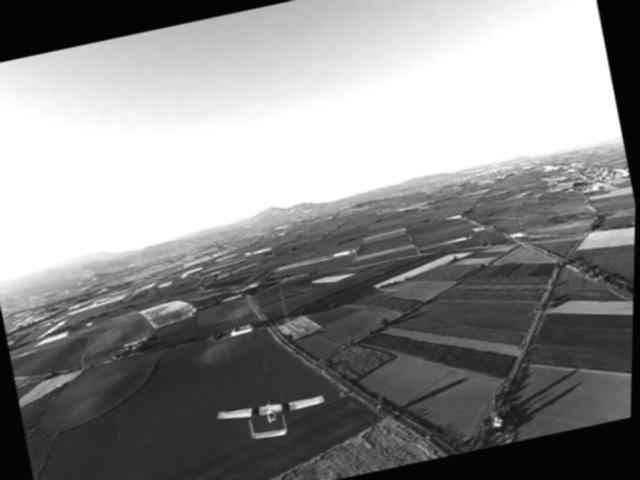hedef: (201, 360, 335, 460)
